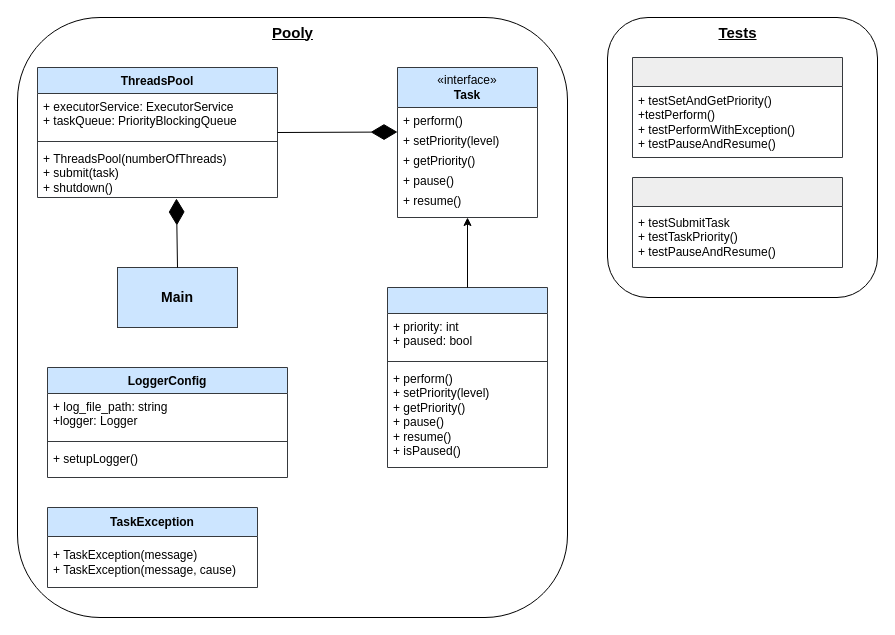
Some shapes in this 895 by 635 pixel diagram are drawn without their labels. The box of each missing label's shape, as (x1, y1, x2, y2) in pixels:
MyTask: (386, 286, 548, 468)
TaskTest: (632, 56, 842, 158)
ThreadsPoolTest: (632, 176, 842, 268)
